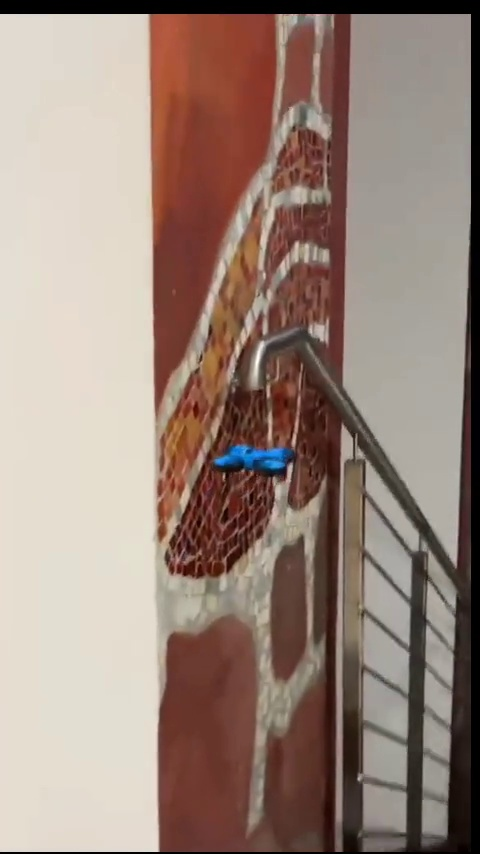drone: (215, 442, 294, 475)
